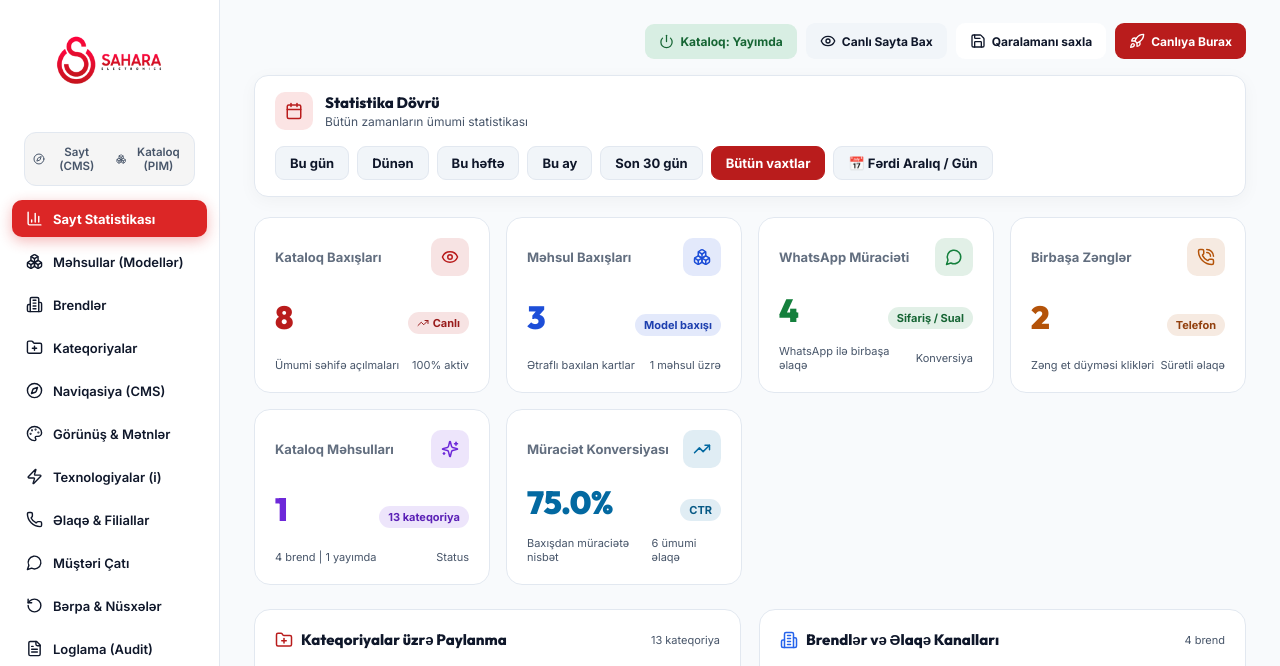
Test: Admin iş axınları › admin paneldə texnologiyalar və i məlumatlarını əlavə edib idarə edir
Click the button "Texnologiyalar (i)": (110, 476) x1=12 y1=458 x2=207 y2=495
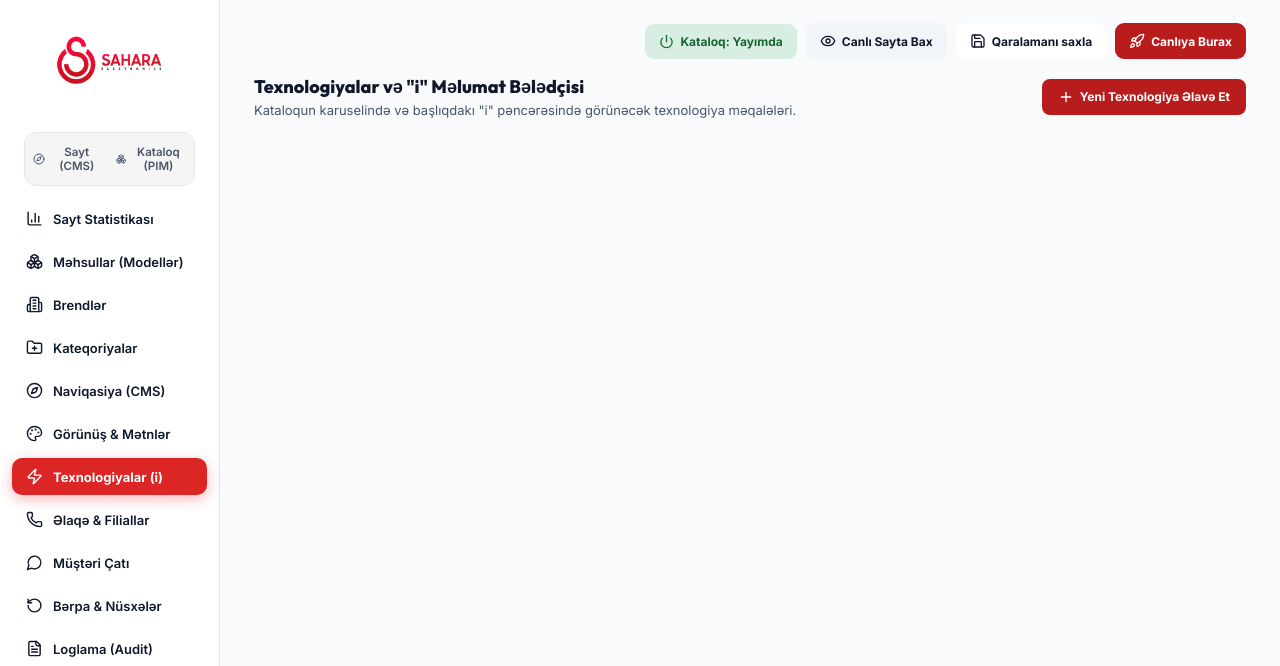
Expected: the heading "Texnologiyalar və \"i\" Məlumat Bələdçisi" is shown, x1=254 y1=75 x2=584 y2=98
Click the button "Yeni Texnologiya Əlavə Et": (1144, 96) x1=1042 y1=78 x2=1246 y2=114
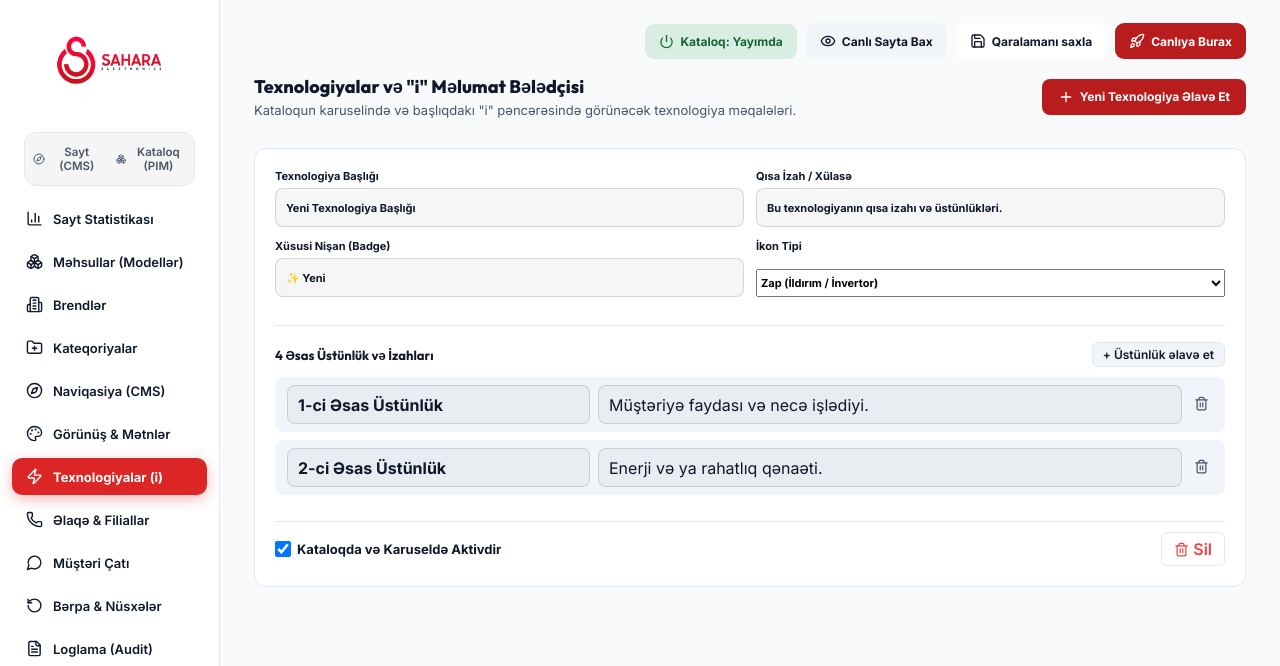
Expected: the field showing "Yeni Texnologiya Başlığı" is shown, x1=275 y1=188 x2=744 y2=227
